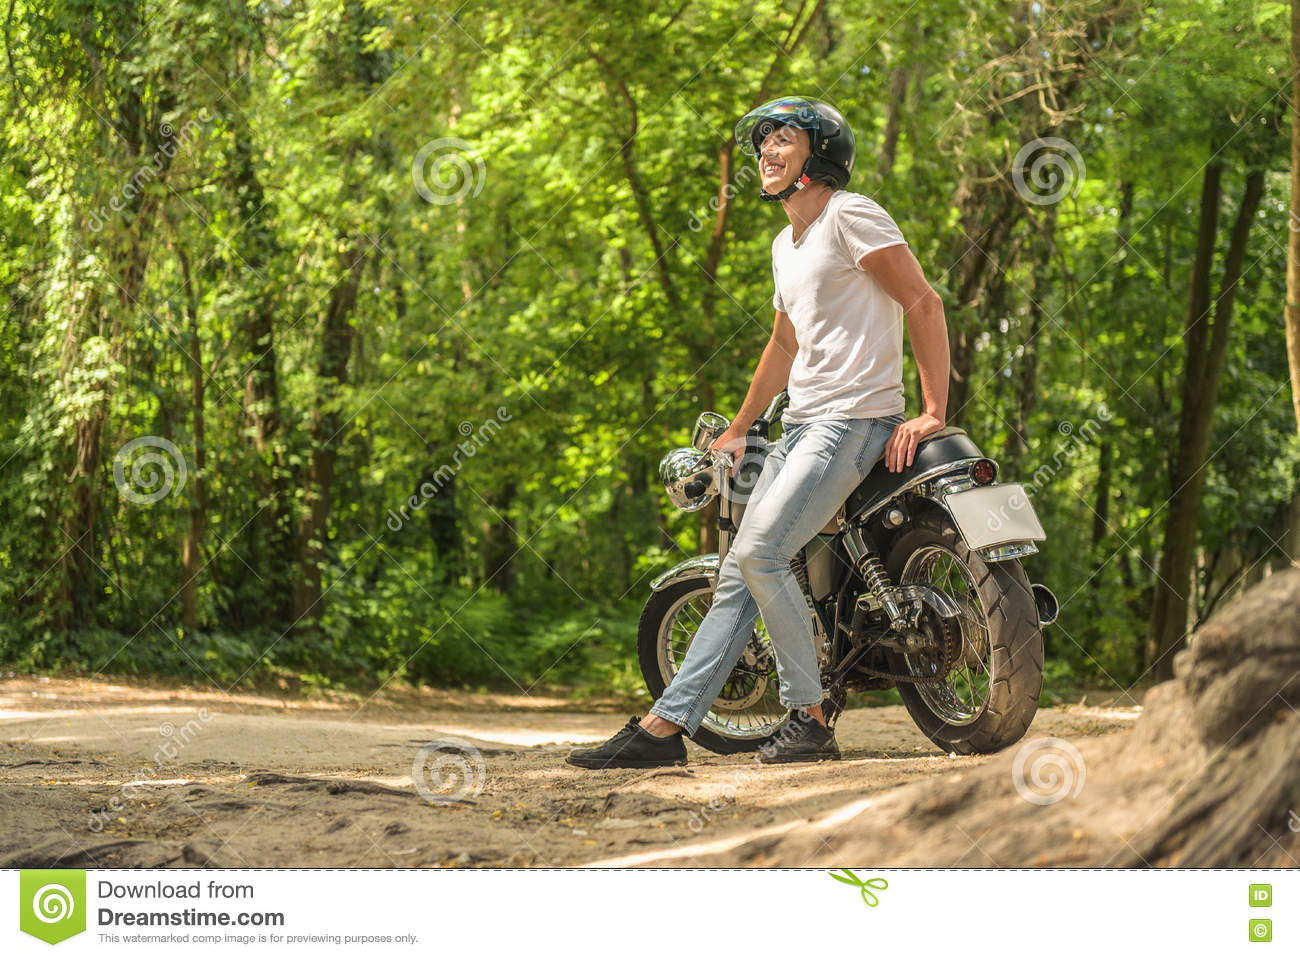helmet: (751, 98, 870, 198)
